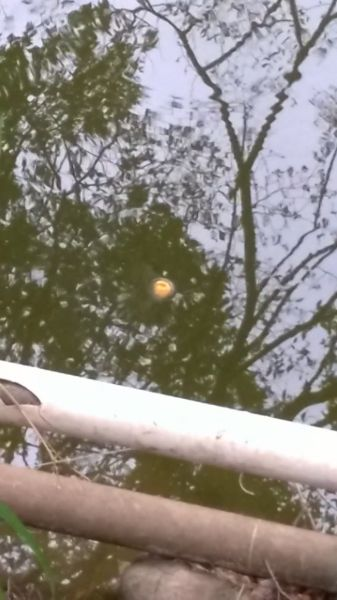eggs: (149, 274, 177, 303)
